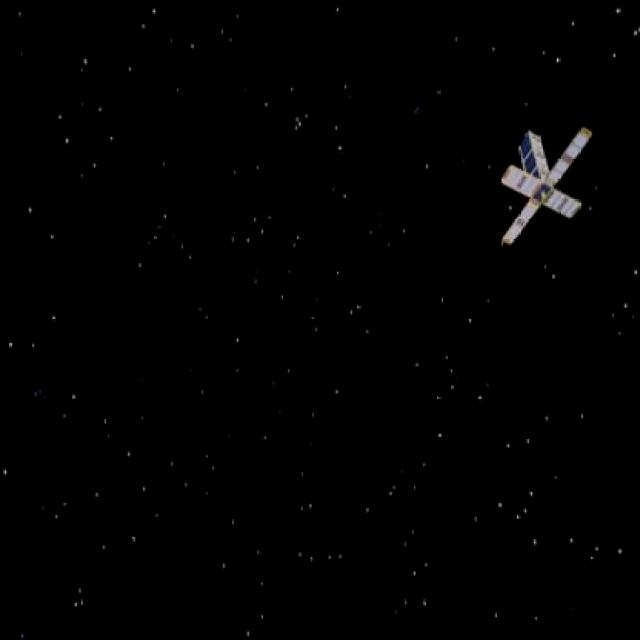medium_debris: (496, 126, 602, 250)
